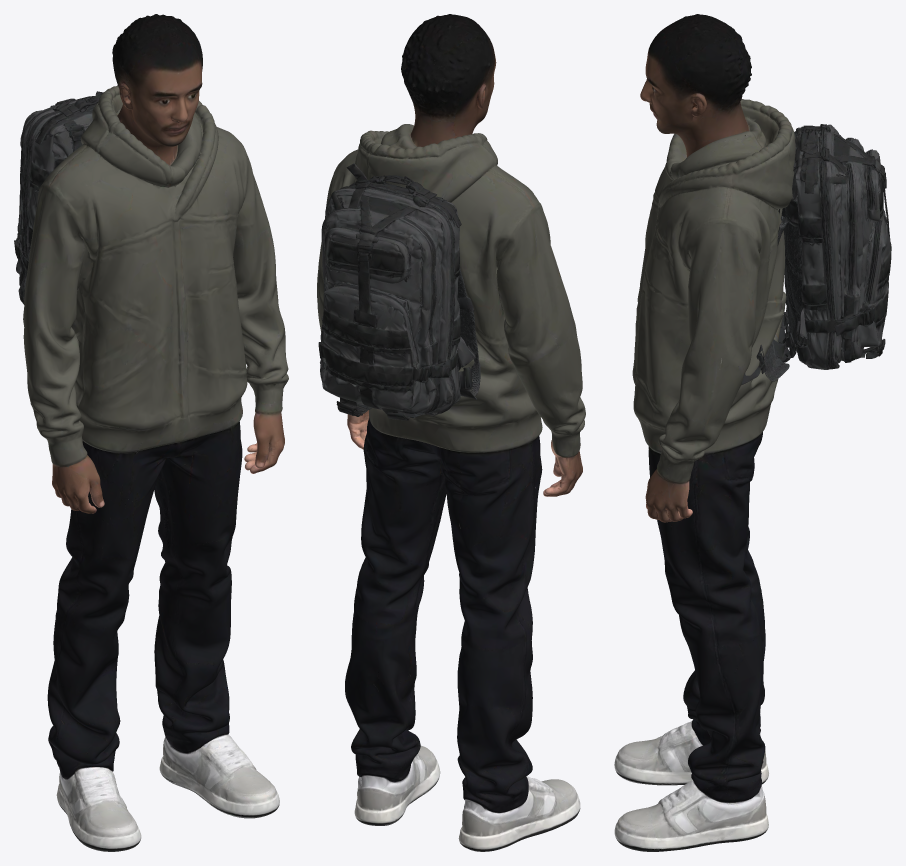
The model's file is rich-with-backpack.glb.
The picture shows the model from 3 angles, left to right: view 1: azimuth 30°, elevation 25°; view 2: azimuth 150°, elevation 25°; view 3: azimuth 270°, elevation 25°; orthographic projection.
Parts seen in each view (by area): view 1: Mesh_0.001, Selected Stealth Angel 30L backpack; view 2: Mesh_0.001, Selected Stealth Angel 30L backpack; view 3: Mesh_0.001, Selected Stealth Angel 30L backpack.
Boxes of the visible parts, x1=… form: Mesh_0.001: x1=23, y1=14, x2=288, y2=851; Selected Stealth Angel 30L backpack: x1=14, y1=91, x2=103, y2=304; Mesh_0.001: x1=317, y1=14, x2=585, y2=851; Selected Stealth Angel 30L backpack: x1=318, y1=163, x2=480, y2=420; Mesh_0.001: x1=614, y1=14, x2=795, y2=851; Selected Stealth Angel 30L backpack: x1=741, y1=124, x2=891, y2=384.
Bounding box in the file's own units: 0.5867 × 1.75 × 0.5565.
2 materials, 2 textured.
